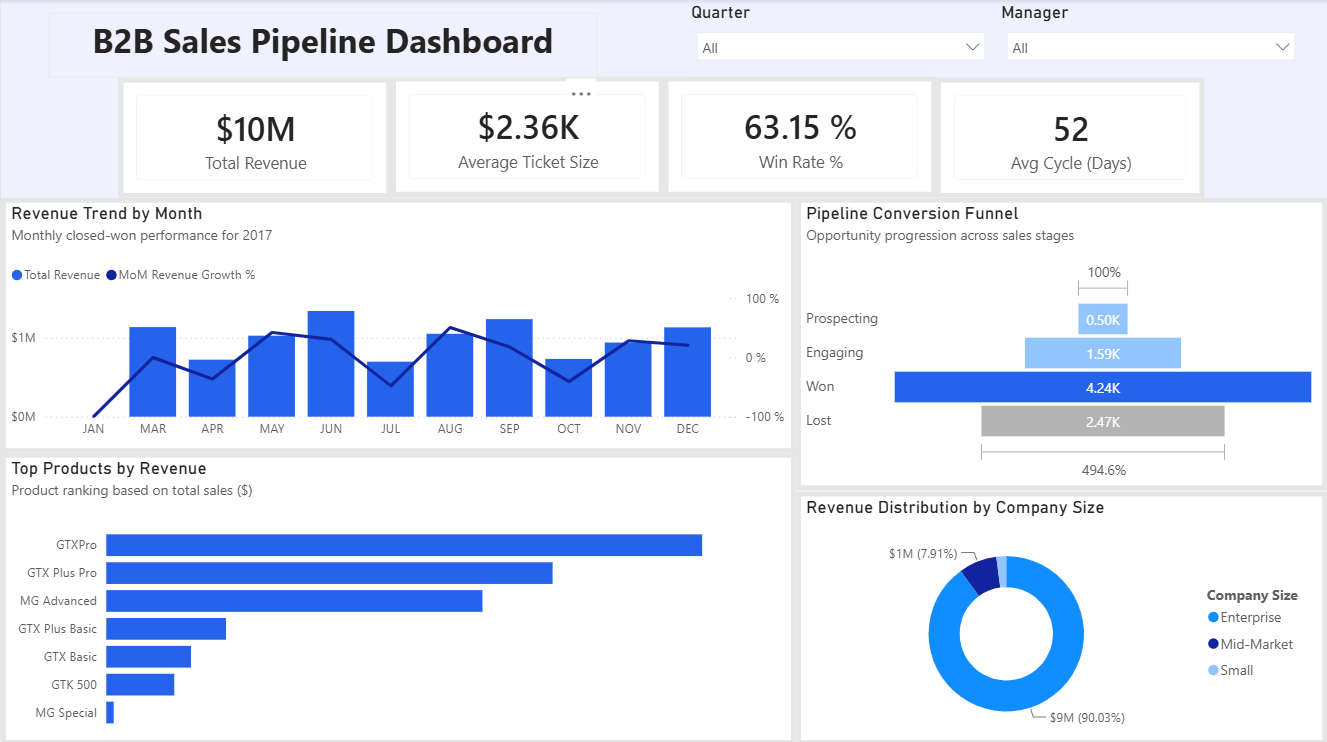

The page's visual inventory and layout, read from the dashboard file:
{"tool":"powerbi","page":{"name":"Executive Sales Overview","canvas":[1280,720],"ordinal":0},"visuals":[{"type":"cardVisual","fields":{"Data":["_Key Measures.Total Revenue"]},"box":[112.9,76,263.5,116.6],"z":0},{"type":"cardVisual","fields":{"Data":["_Key Measures.Win Rate %"]},"box":[638.9,74.8,263.5,116.6],"z":1000},{"type":"cardVisual","fields":{"Data":["_Key Measures.Average Ticket Size"]},"box":[375.9,74.8,263.5,116.6],"z":2000},{"type":"cardVisual","fields":{"Data":["_Key Measures.Avg Sales Cycle Days"]},"box":[901.9,76,259.3,116.6],"z":3000},{"type":"lineClusteredColumnComboChart","title":"Revenue Trend by Month","fields":{"Category":["dim_date.month_name_short"],"Y":["_Key Measures.Total Revenue"],"Y2":["_Key Measures.MoM Revenue Growth %"]},"box":[0,191.8,767.3,246.1],"z":4000},{"type":"funnel","title":"Pipeline Conversion Funnel","fields":{"Category":["vw_fact_sales_pipeline.deal_stage"],"Y":["_Key Measures.Engaged Deals"]},"box":[767.3,191.8,512.7,282.3],"z":5000},{"type":"clusteredBarChart","title":"Top Products by Revenue","fields":{"Category":["dim_products.product"],"Y":["_Key Measures.Total Revenue"]},"box":[0,437.9,767.3,282.3],"z":6000},{"type":"donutChart","title":"Revenue Distribution by Company Size","fields":{"Category":["vw_dim_accounts.company_size_category"],"Y":["_Key Measures.Total Revenue"]},"box":[767.3,475.3,512.7,244.9],"z":7000},{"type":"slicer","title":"Quarter","fields":{"Values":["dim_date.quarter_name"]},"box":[661.1,2.4,299.1,72.7],"z":8000},{"type":"slicer","title":"Manager","fields":{"Values":["dim_sales_teams.manager"]},"box":[960.3,2.4,299.1,72.7],"z":9000},{"type":"textbox","box":[45.8,13.3,529.6,62.7],"z":10000}]}

Visuals, with their boxes in screenshot pixels (x1, y1, x2, y2), scaled from the page's 1280x720 canvas onto the 1327x742 screenshot:
cardVisual - _Key Measures.Total Revenue: {"left": 117, "top": 78, "right": 390, "bottom": 198}
cardVisual - _Key Measures.Win Rate %: {"left": 662, "top": 77, "right": 936, "bottom": 197}
cardVisual - _Key Measures.Average Ticket Size: {"left": 390, "top": 77, "right": 663, "bottom": 197}
cardVisual - _Key Measures.Avg Sales Cycle Days: {"left": 935, "top": 78, "right": 1204, "bottom": 198}
"Revenue Trend by Month" lineClusteredColumnComboChart: {"left": 0, "top": 198, "right": 795, "bottom": 451}
"Pipeline Conversion Funnel" funnel: {"left": 795, "top": 198, "right": 1326, "bottom": 489}
"Top Products by Revenue" clusteredBarChart: {"left": 0, "top": 451, "right": 795, "bottom": 741}
"Revenue Distribution by Company Size" donutChart: {"left": 795, "top": 490, "right": 1326, "bottom": 741}
"Quarter" slicer: {"left": 685, "top": 2, "right": 995, "bottom": 77}
"Manager" slicer: {"left": 996, "top": 2, "right": 1306, "bottom": 77}
textbox: {"left": 47, "top": 14, "right": 597, "bottom": 78}
